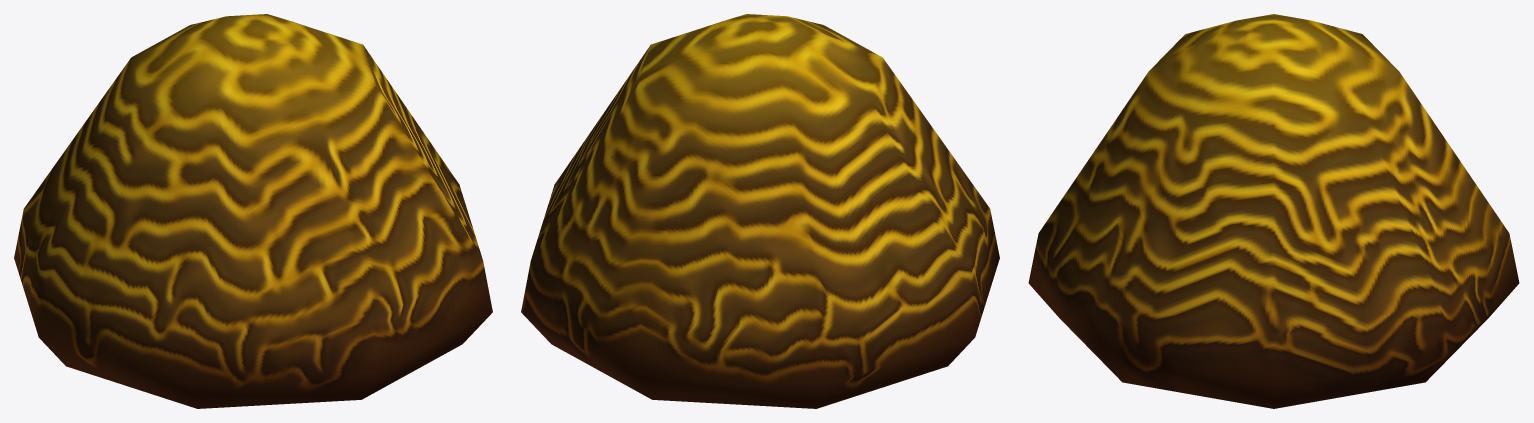
The model's file is Coral_26.FBX.
3 views of the same model, side by side, from view 1: azimuth 30°, elevation 25°; view 2: azimuth 150°, elevation 25°; view 3: azimuth 270°, elevation 25° (orthographic).
Parts seen in each view (by area): view 1: Coral_26; view 2: Coral_26; view 3: Coral_26.
Boxes of the visible parts, x1=… form: Coral_26: x1=14, y1=14, x2=492, y2=408; Coral_26: x1=521, y1=14, x2=999, y2=408; Coral_26: x1=1028, y1=14, x2=1519, y2=408.
Size of the model in its own units: 48.93 by 32.04 by 48.93.
